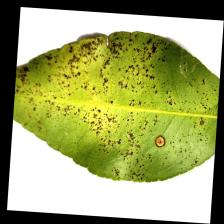canker: (61, 43, 174, 154)
